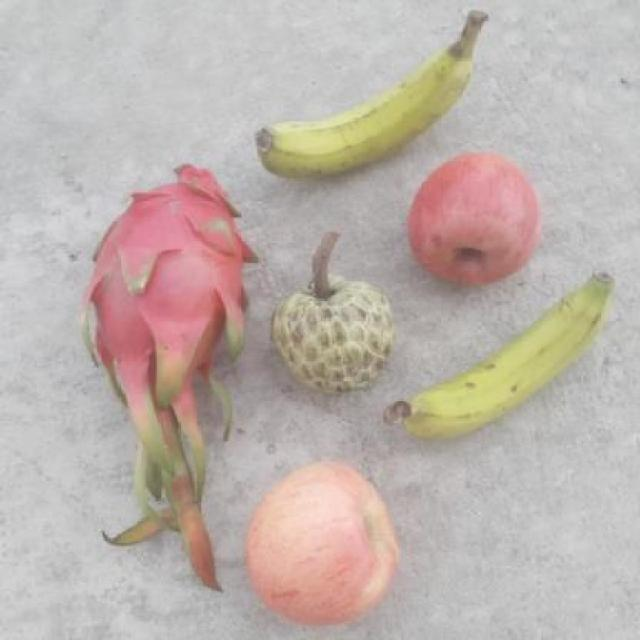apple: (245, 459, 404, 626), (406, 152, 546, 286)
banana: (253, 11, 492, 177), (394, 270, 618, 438)
dragon fruit: (78, 161, 260, 404)
sugar apple: (268, 232, 397, 396)
